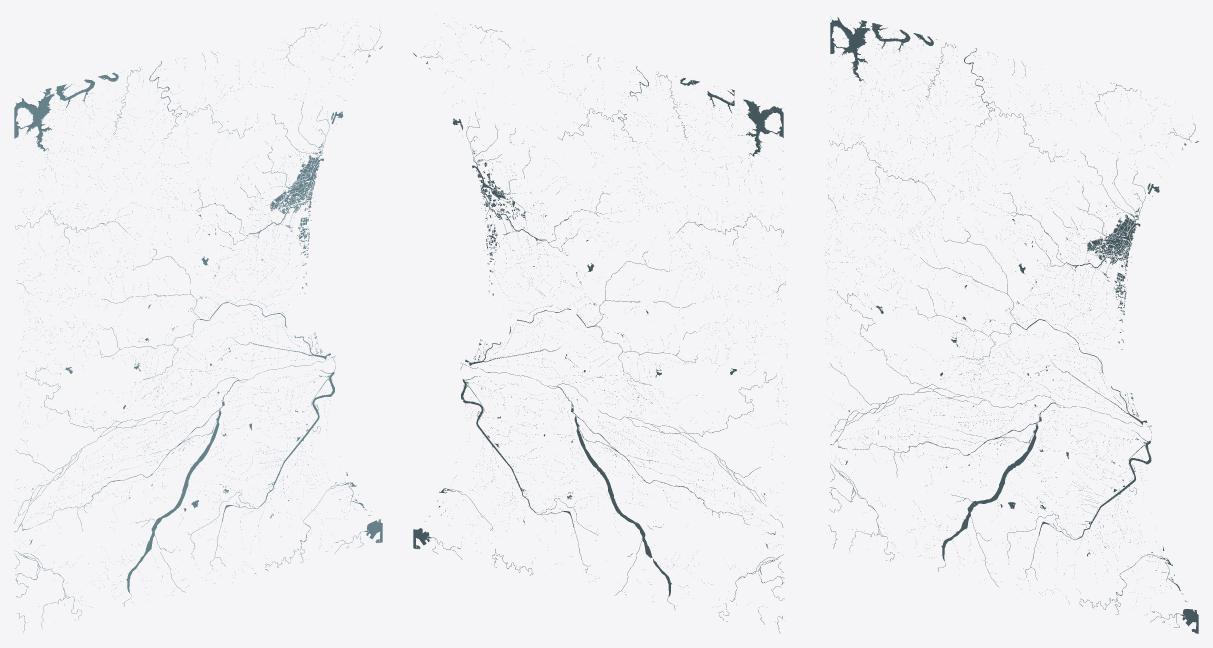
Rendered from context-water.glb.
3 renders of one model, left to right at view 1: azimuth 30°, elevation 25°; view 2: azimuth 150°, elevation 25°; view 3: azimuth 330°, elevation 25°, orthographic.
Parts seen in each view (by area): view 1: water-far--1-4; view 2: no part large enough to name; view 3: water-far--1-4.
Boxes of the visible parts, <box> form: water-far--1-4: <box>278,173,305,207</box>; water-far--1-4: <box>1095,226,1122,257</box>.
Bounding box in the file's own units: 27296 × 37848 × 1348.
